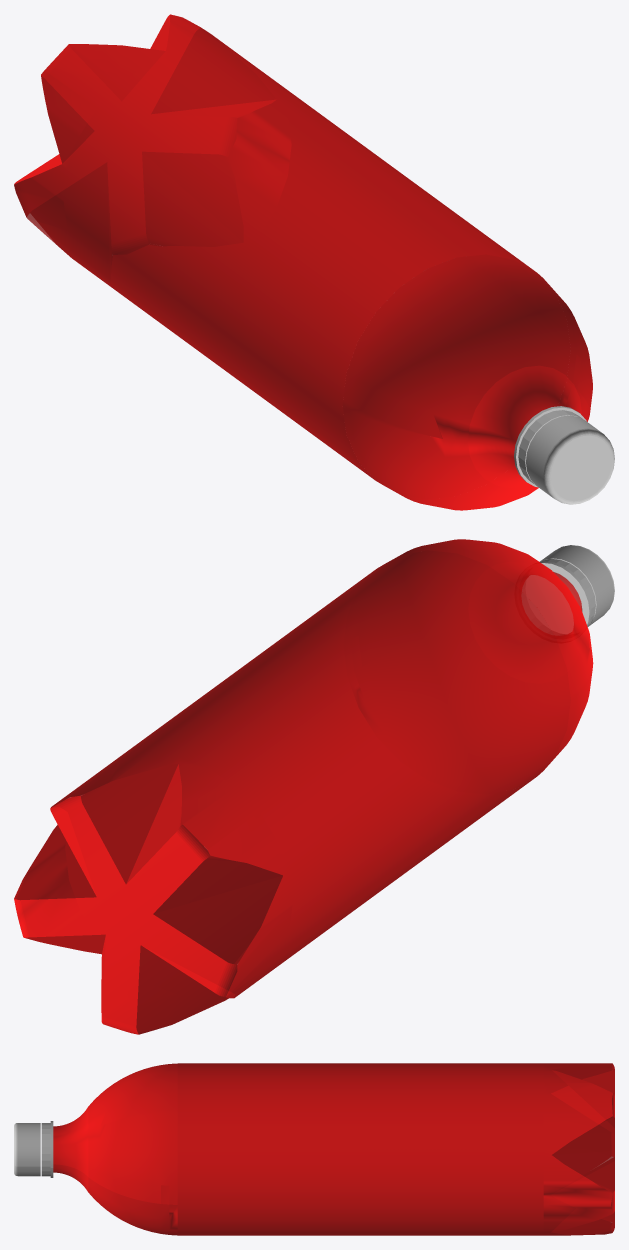
Rendered from model_align.obj.
3 views of the same model, one above another, from view 1: azimuth 30°, elevation 25°; view 2: azimuth 150°, elevation 25°; view 3: azimuth 270°, elevation 25° (orthographic). The views are drawn at different scales.
Visible parts, largest first — view 1: mesh8_mesh8-geometry, mesh1_mesh1-geometry, mesh9_mesh9-geometry, mesh11_mesh11-geometry, mesh10_mesh10-geometry; view 2: mesh8_mesh8-geometry, mesh1_mesh1-geometry, mesh9_mesh9-geometry, mesh10_mesh10-geometry, mesh11_mesh11-geometry; view 3: mesh8_mesh8-geometry, mesh9_mesh9-geometry, mesh1_mesh1-geometry, mesh11_mesh11-geometry, mesh10_mesh10-geometry.
Boxes of the visible parts, <box> form: mesh8_mesh8-geometry: <box>63,50,569,498</box>; mesh1_mesh1-geometry: <box>14,14,290,294</box>; mesh9_mesh9-geometry: <box>342,254,592,510</box>; mesh11_mesh11-geometry: <box>526,415,614,504</box>; mesh10_mesh10-geometry: <box>514,406,586,487</box>; mesh8_mesh8-geometry: <box>66,550,570,997</box>; mesh1_mesh1-geometry: <box>14,754,292,1034</box>; mesh9_mesh9-geometry: <box>344,539,593,793</box>; mesh10_mesh10-geometry: <box>521,559,595,635</box>; mesh11_mesh11-geometry: <box>539,545,614,626</box>; mesh8_mesh8-geometry: <box>177,1063,543,1235</box>; mesh9_mesh9-geometry: <box>53,1063,177,1235</box>; mesh1_mesh1-geometry: <box>543,1063,614,1235</box>; mesh11_mesh11-geometry: <box>14,1123,40,1176</box>; mesh10_mesh10-geometry: <box>41,1121,53,1177</box>.
Size of the model in its own units: 0.0776 by 0.0776 by 0.2701.
